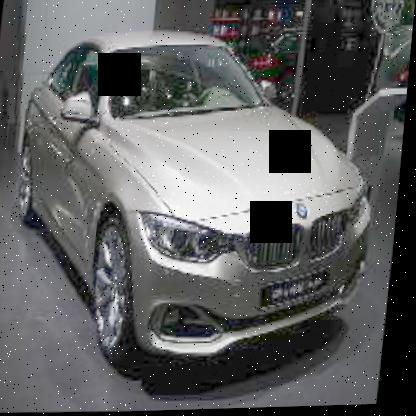not_emergency: (0, 16, 399, 384)
